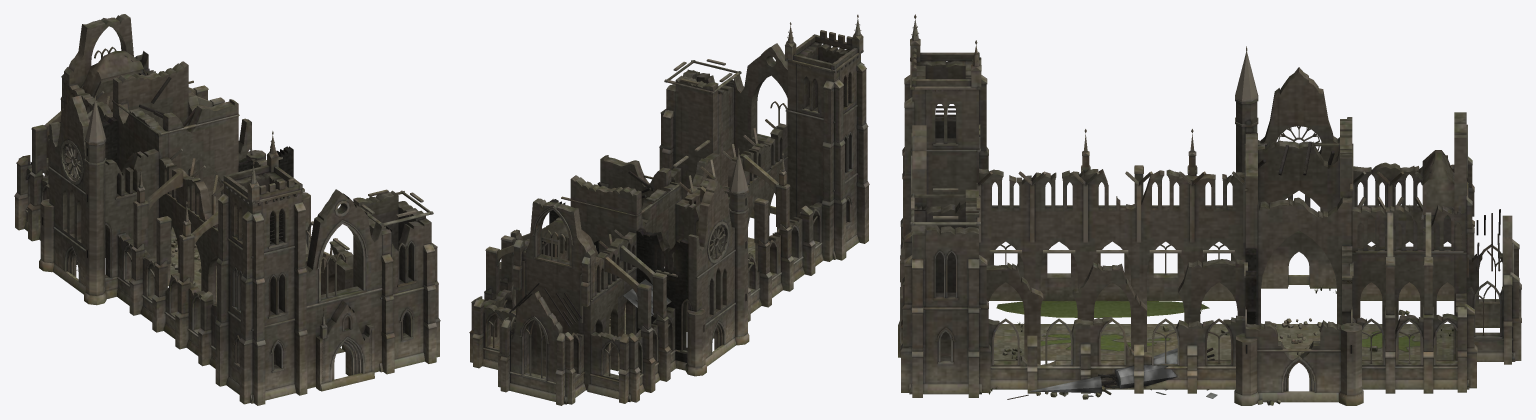
File: cathedral_ruin.glb
3 renders of one model, left to right at view 1: azimuth 30°, elevation 25°; view 2: azimuth 150°, elevation 25°; view 3: azimuth 270°, elevation 25°, orthographic. The views are drawn at different scales.
Visible parts, largest first — view 1: cathedral_ruin_LOD0; view 2: cathedral_ruin_LOD0; view 3: cathedral_ruin_LOD0.
Boxes of the visible parts, <box> form: cathedral_ruin_LOD0: <box>14,14,440,405</box>; cathedral_ruin_LOD0: <box>469,14,869,405</box>; cathedral_ruin_LOD0: <box>898,14,1521,405</box>.
Size of what is drawn, in the model's own units: 31.59 by 32.56 by 65.5.
1 material, 1 textured.
